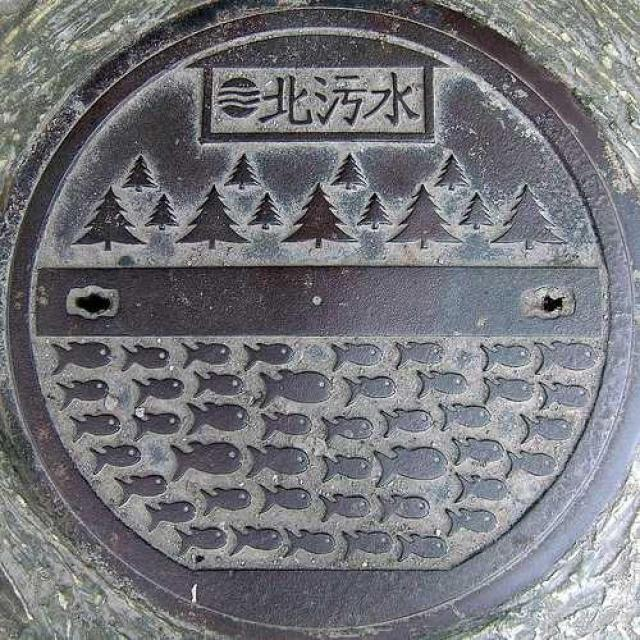manhole: (9, 1, 631, 640)
